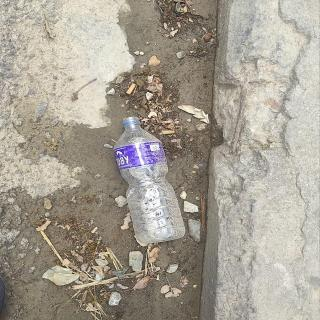Plastic-bottle: (112, 115, 189, 247)
